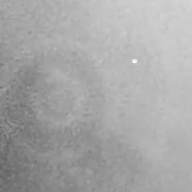Target: (131, 58, 139, 64)
